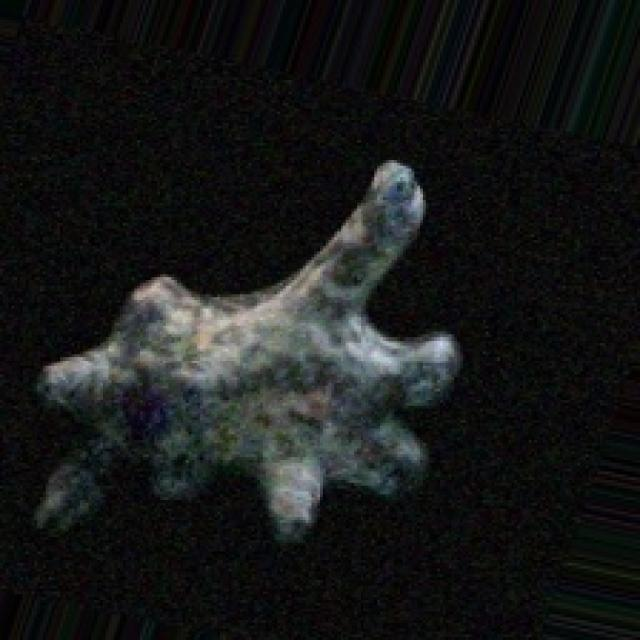Amoeba: (28, 154, 463, 546)
